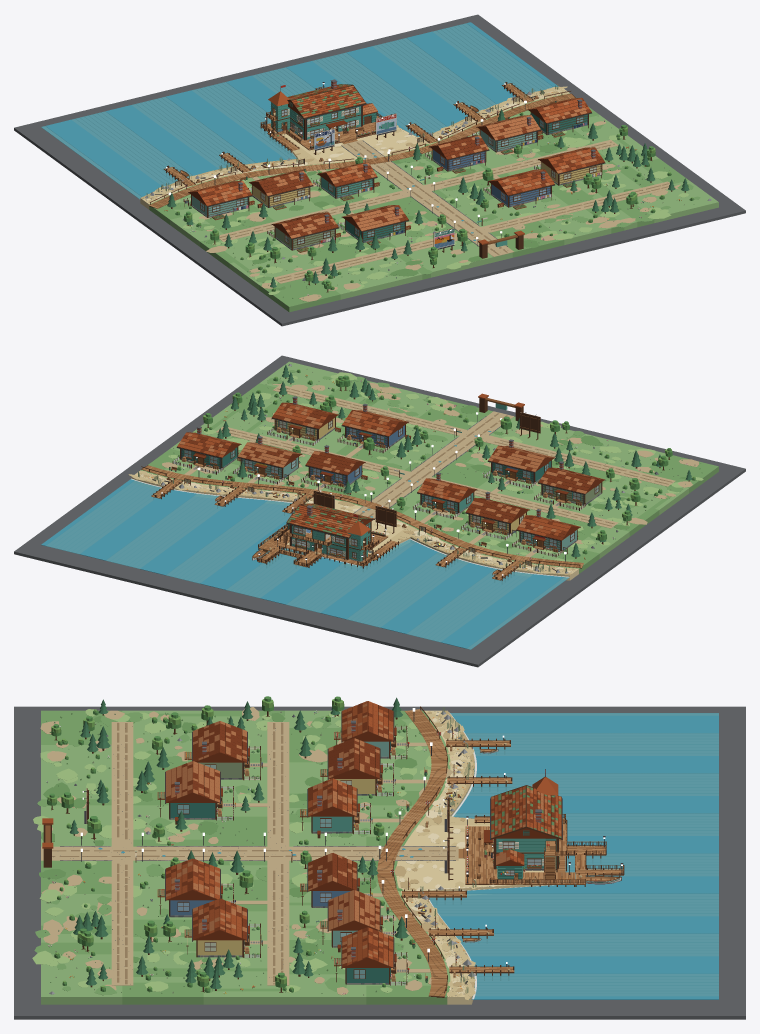
Rendered from FishermanDadDistrict.fbx.
3 renders of one model, top to bottom at view 1: azimuth 30°, elevation 25°; view 2: azimuth 150°, elevation 25°; view 3: azimuth 270°, elevation 25°, orthographic. The views are drawn at different scales.
Parts seen in each view (by area): view 1: Terrain_StoneDark_2_2_00, Water_Water_3_3_00, Water_Water_0_3_00, Water_Water2_0_3_00, Water_Water_2_3_00, Water_Water_1_3_00, Roads_Dirt_2_1_00, Water_Water2_3_3_00, Water_Water2_1_3_00, Water_Water2_2_3_00, Terrain_Grass_0_0_00, Terrain_Grass_1_0_00 (+48 smaller); view 2: Terrain_StoneDark_2_2_00, Water_Water_3_3_00, Water_Water_0_3_00, Water_Water_2_3_00, Water_Water2_0_3_00, Water_Water_1_3_00, Water_Water2_1_3_00, Water_Water2_3_3_00, Roads_Dirt_2_1_00, Water_Water2_2_3_00, Terrain_Grass_0_0_00, Terrain_Grass_0_1_00 (+38 smaller); view 3: Terrain_StoneDark_2_2_00, Water_Water_3_3_00, Water_Water_2_3_00, Water_Water2_0_3_00, Water_Water_0_3_00, Roads_Dirt_2_1_00, Water_Water2_3_3_00, Water_Water_1_3_00, Water_Water2_2_3_00, Water_Water2_1_3_00, Terrain_Grass_3_1_00, Terrain_Grass_3_0_00 (+84 smaller).
Boxes of the visible parts, box(x1,y1,x2,y2) form: Terrain_StoneDark_2_2_00: box(14, 14, 745, 326); Water_Water_3_3_00: box(372, 23, 552, 116); Water_Water_0_3_00: box(41, 101, 232, 199); Water_Water2_0_3_00: box(45, 105, 218, 196); Water_Water_2_3_00: box(256, 52, 446, 137); Water_Water_1_3_00: box(149, 74, 296, 164); Roads_Dirt_2_1_00: box(341, 139, 618, 256); Water_Water2_3_3_00: box(364, 22, 558, 119); Water_Water2_1_3_00: box(166, 75, 285, 162); Water_Water2_2_3_00: box(286, 48, 460, 132); Terrain_Grass_0_0_00: box(229, 249, 396, 299); Terrain_Grass_1_0_00: box(371, 216, 503, 285); Terrain_StoneDark_2_2_00: box(14, 355, 745, 667); Water_Water_3_3_00: box(45, 480, 235, 568); Water_Water_0_3_00: box(363, 559, 569, 649); Water_Water_2_3_00: box(166, 500, 305, 597); Water_Water2_0_3_00: box(380, 562, 563, 648); Water_Water_1_3_00: box(256, 539, 446, 623); Water_Water2_1_3_00: box(260, 542, 437, 619); Water_Water2_3_3_00: box(41, 479, 246, 571); Roads_Dirt_2_1_00: box(216, 411, 513, 518); Water_Water2_2_3_00: box(149, 498, 288, 589); Terrain_Grass_0_0_00: box(586, 440, 688, 514); Terrain_Grass_0_1_00: box(515, 492, 650, 558); Terrain_StoneDark_2_2_00: box(14, 706, 745, 1019); Water_Water_3_3_00: box(456, 933, 718, 996); Water_Water_2_3_00: box(429, 856, 718, 916); Water_Water2_0_3_00: box(452, 715, 718, 773); Water_Water_0_3_00: box(450, 713, 718, 784); Roads_Dirt_2_1_00: box(41, 846, 458, 985); Water_Water2_3_3_00: box(449, 927, 718, 999); Water_Water_1_3_00: box(453, 784, 718, 856); Water_Water2_2_3_00: box(440, 876, 718, 927); Water_Water2_1_3_00: box(454, 796, 718, 853); Terrain_Grass_3_1_00: box(203, 925, 366, 1004); Terrain_Grass_3_0_00: box(41, 934, 203, 1004).
Bounding box in the file's own units: 540 × 57 × 540.
